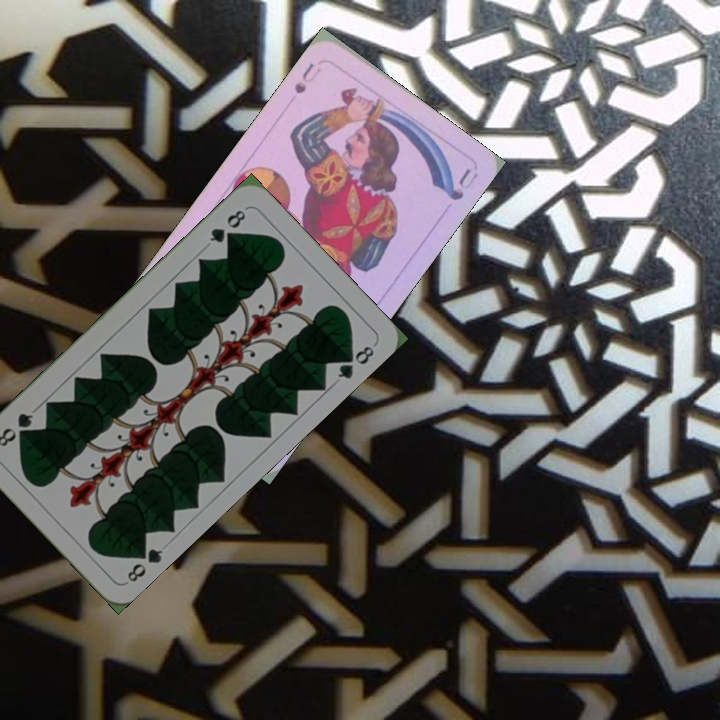G8: (122, 540, 166, 586), (205, 205, 249, 246)
SU: (290, 59, 324, 97)
